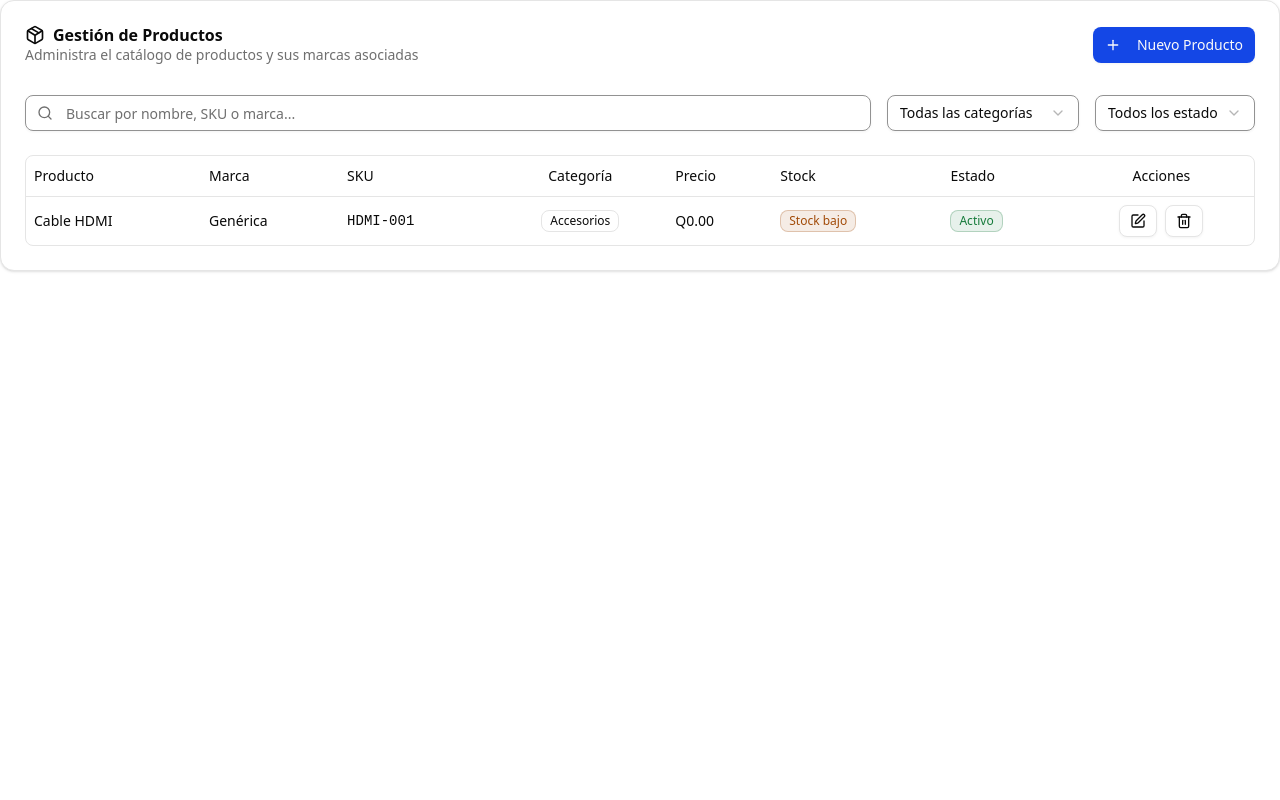
ProductList › keeps the dialog open and shows the error when the delete fails
Click the button named "Eliminar Cable HDMI" at point(1184, 220), box x1=1165 y1=204 x2=1203 y2=236
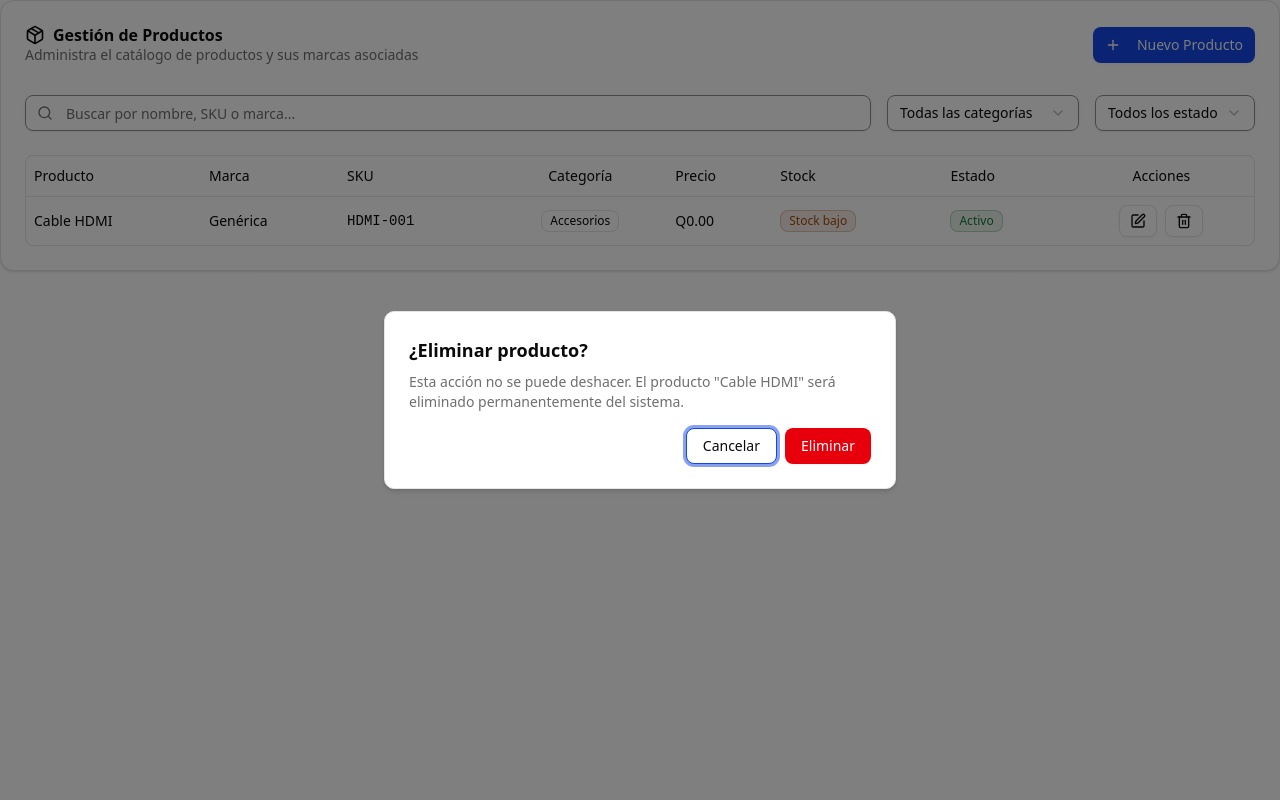
Click the button "Eliminar" at point(828, 446), box x1=785 y1=428 x2=871 y2=464
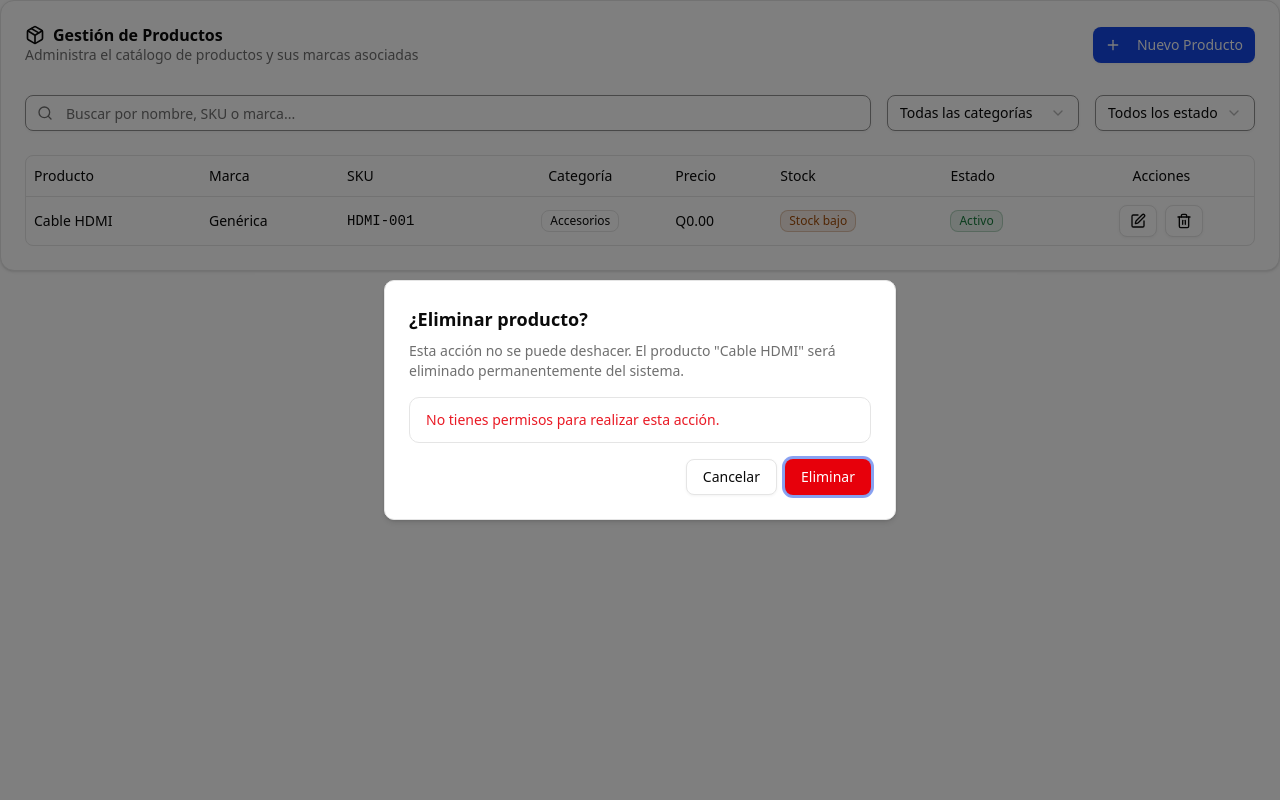
Expected: the dialog is shown, x1=384 y1=280 x2=896 y2=520
Expected: the text "No tienes permisos para realizar esta acción." is shown, x1=426 y1=410 x2=720 y2=429
